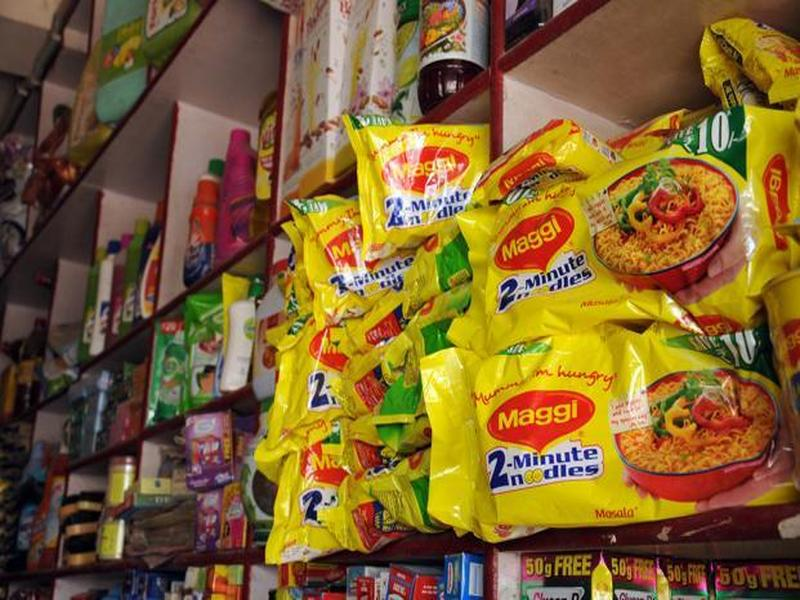maggi-family: (437, 334, 800, 523), (470, 121, 750, 314), (348, 117, 493, 229)
